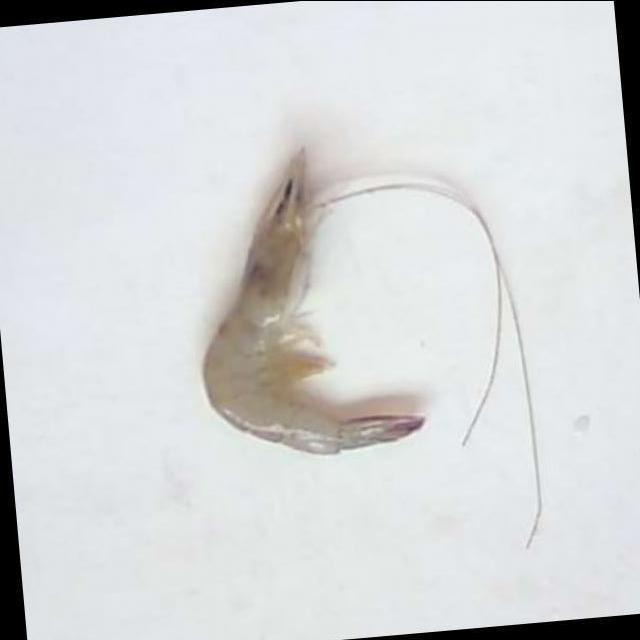shrimp: (204, 147, 423, 454)
